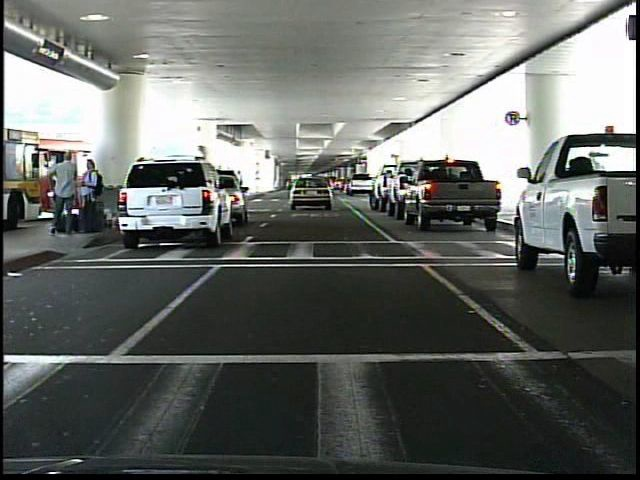person: (45, 152, 76, 237), (77, 155, 106, 237)
